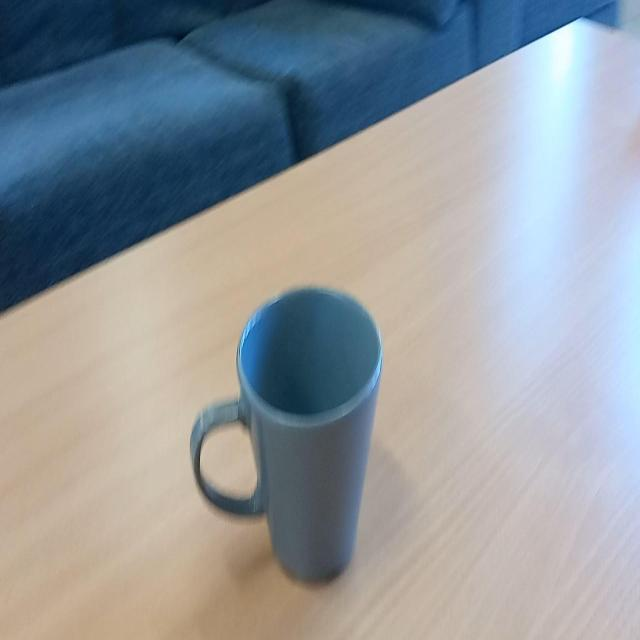cup: (188, 282, 388, 588)
